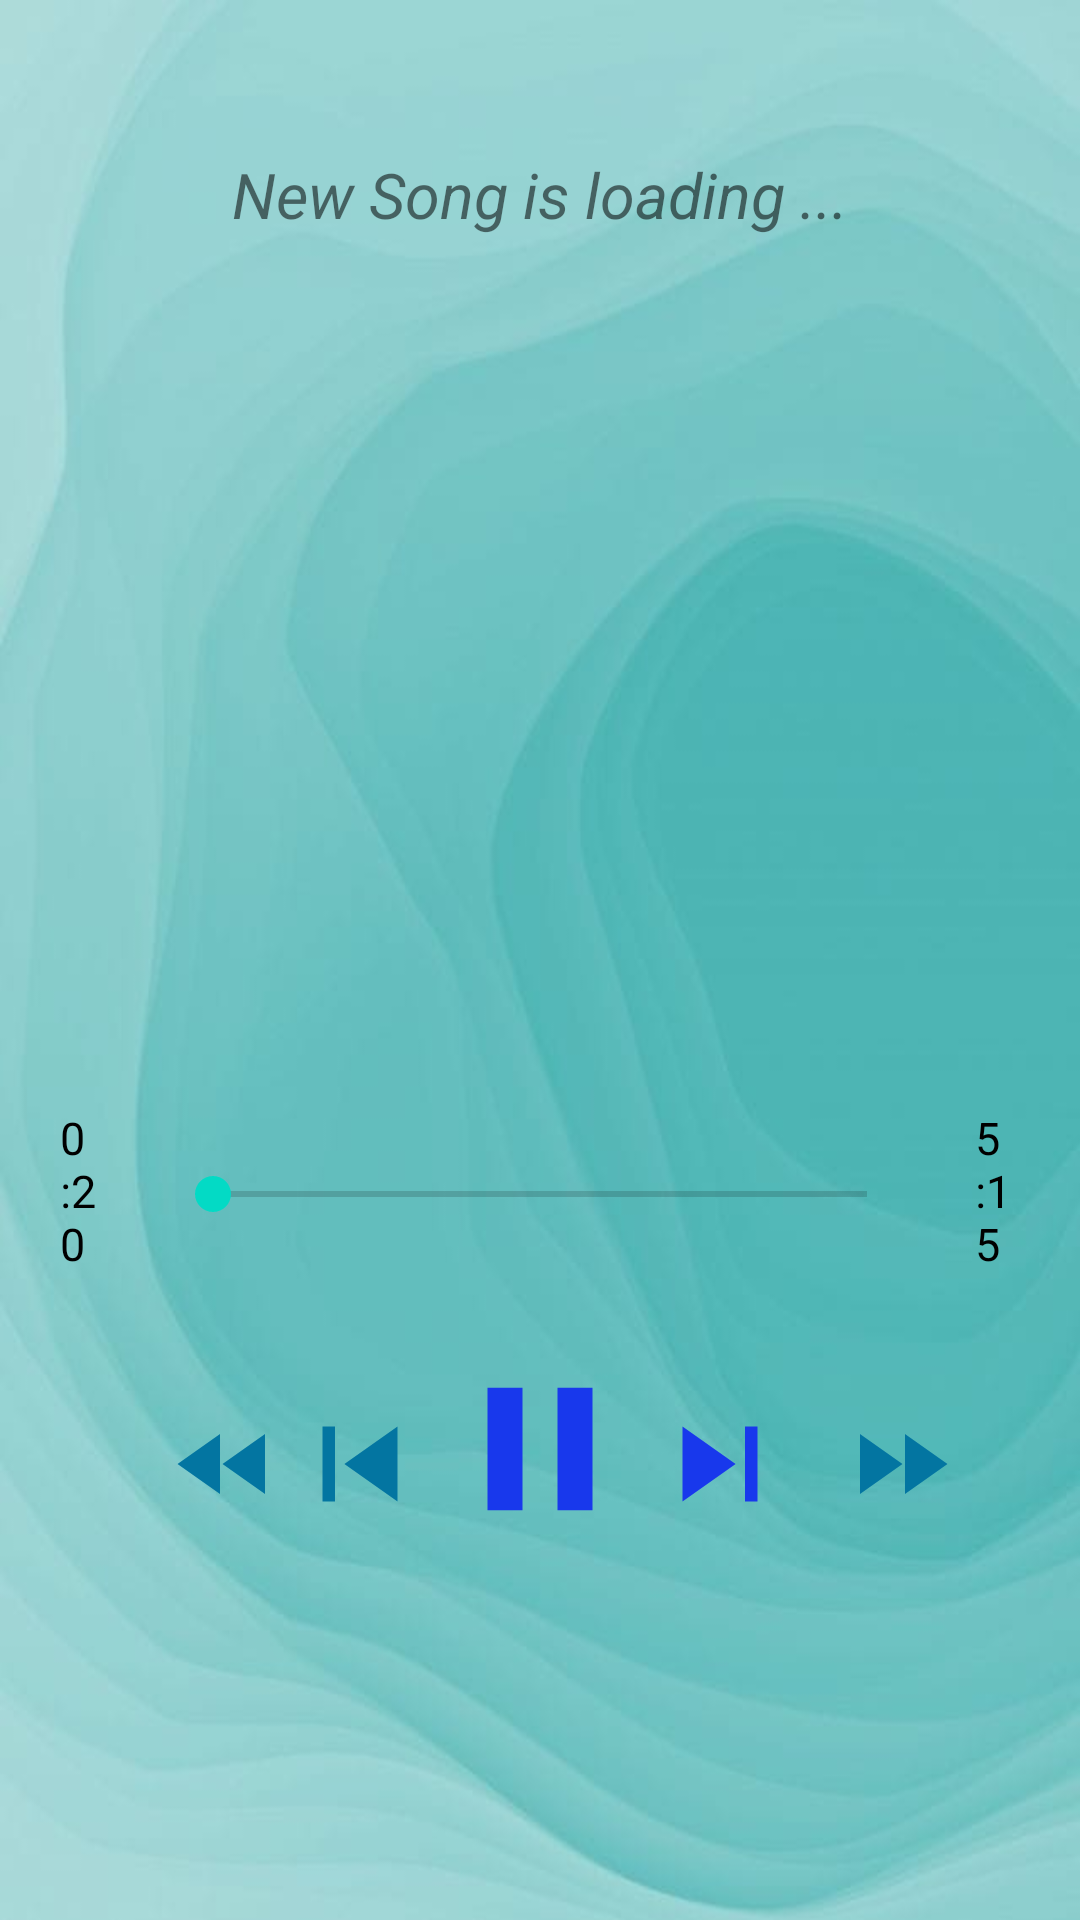

Where to tap for icons on this 1080px x 1920px app screen, as (x=x, y=y):
forward: (x=903, y=1464)
next: (x=733, y=1464)
pause: (x=540, y=1449)
previous: (x=360, y=1464)
rewind: (x=221, y=1464)
